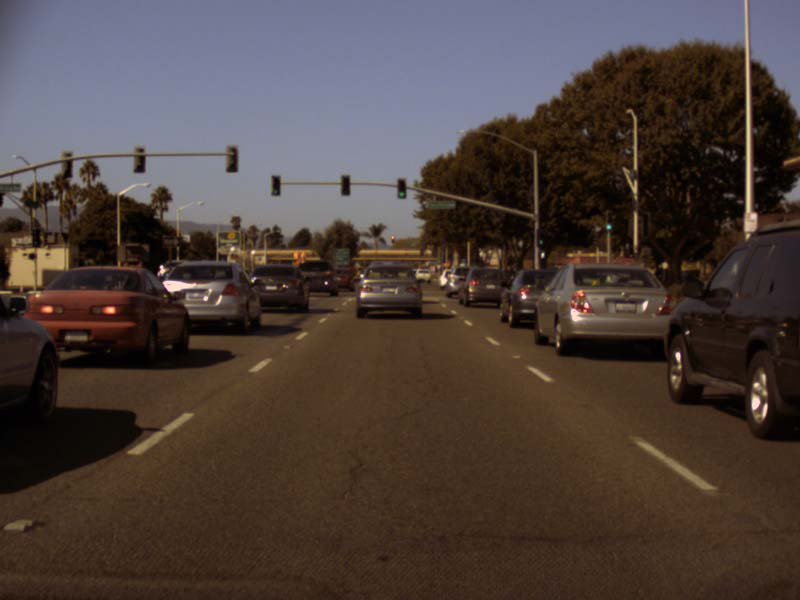Green: (396, 177, 407, 199), (270, 176, 280, 195), (604, 210, 613, 231), (537, 228, 545, 244)
